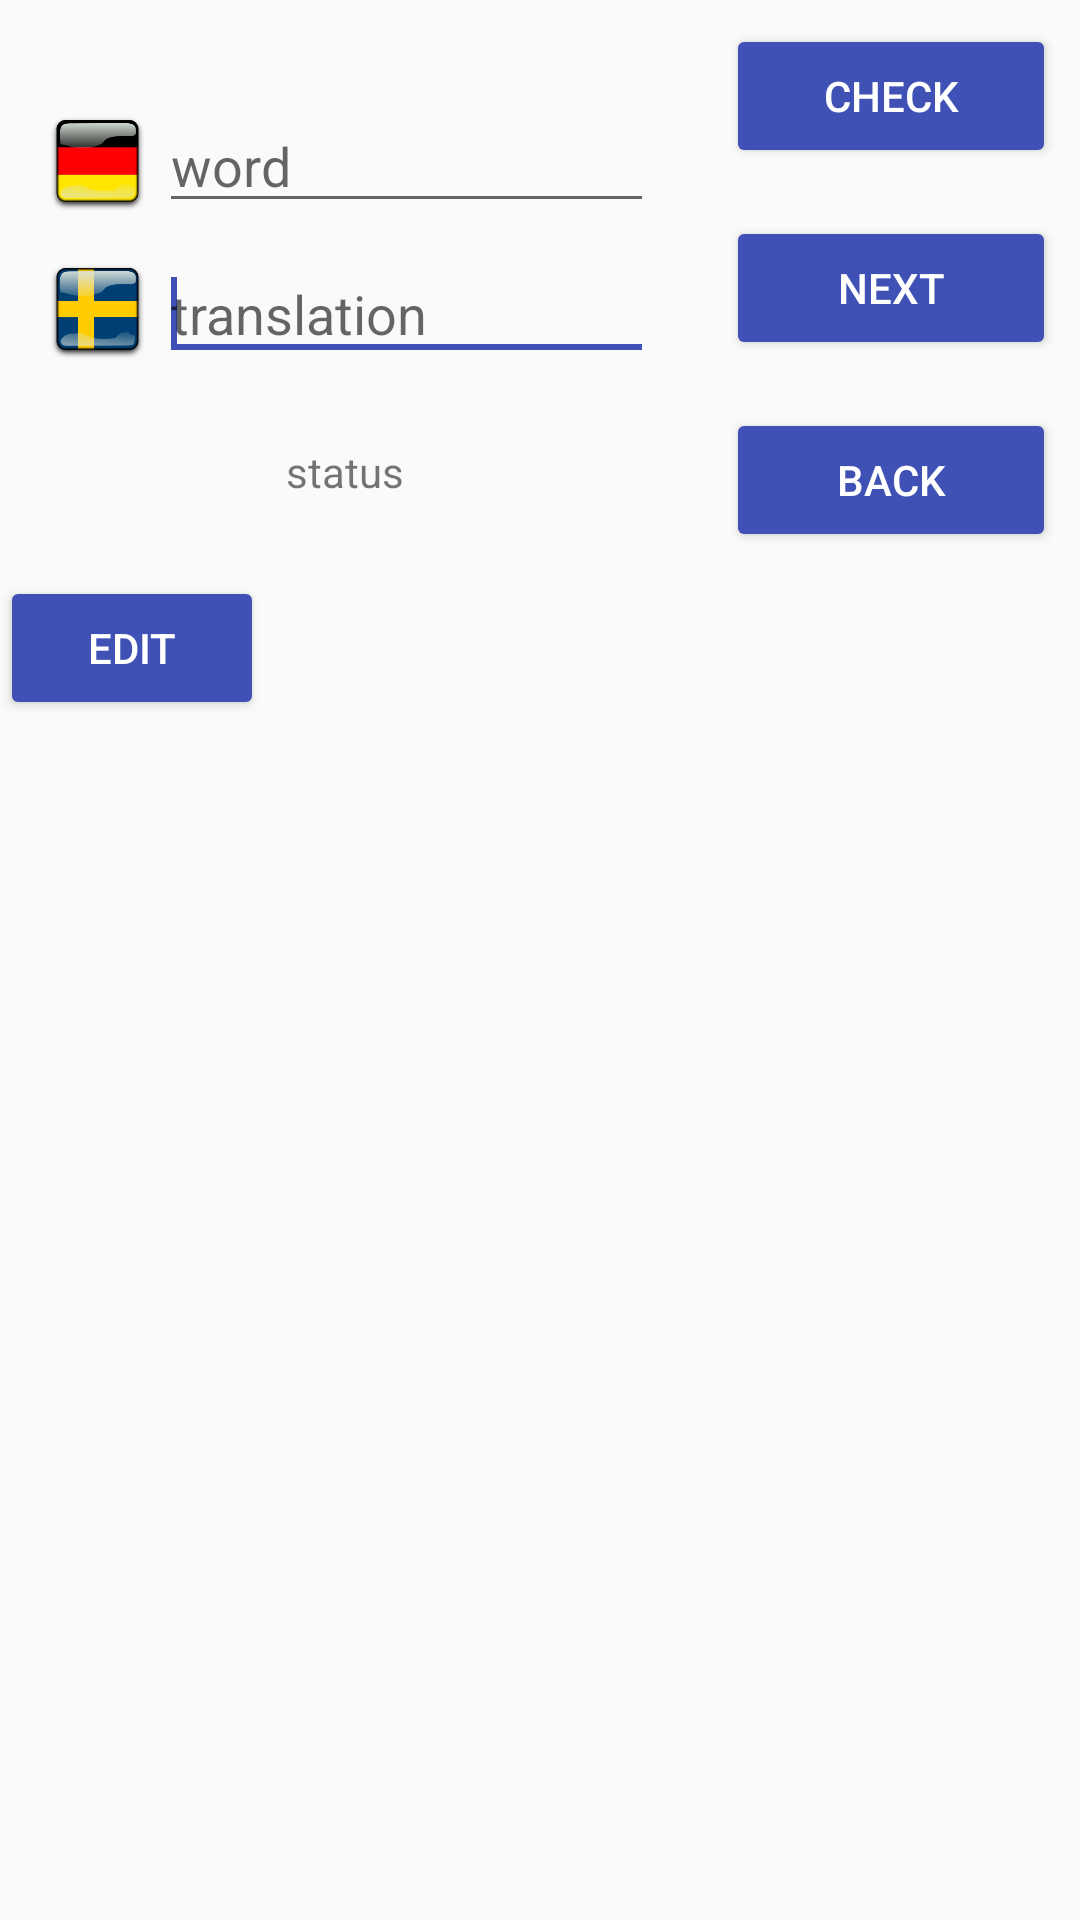

Icons on this 1080 x 1920 Android screen, each with its box as (x1, y1, x2, y2):
flag german: (53, 120, 142, 208)
flag swedish: (53, 268, 142, 356)
